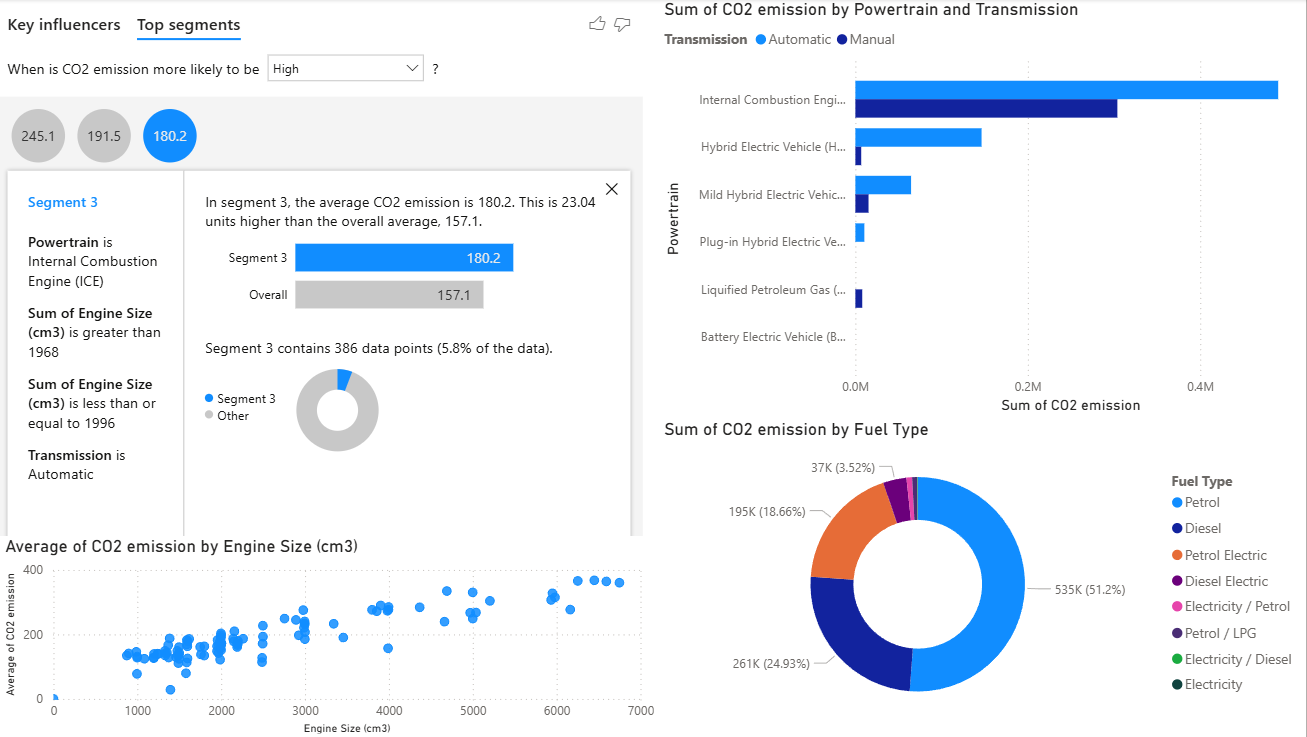

Layout of this report page (visuals, bound fields, positions):
{"tool":"powerbi","page":{"name":"Page 1","canvas":[1280,720],"ordinal":0},"visuals":[{"type":"keyDriversVisual","fields":{"Target":["Vehicles.CO2 emission"],"ExplainBy":["Sum(Vehicles.Engine Size (cm3))","Vehicles.Fuel Type","Vehicles.Powertrain","Vehicles.Transmission"]},"box":[9.7,0,568,467.8],"z":0},{"type":"scatterChart","fields":{"X":["Vehicles.Engine Size (cm3)"],"Y":["Avg(Vehicles.CO2 emission)"]},"box":[9.7,467.8,568,251.9],"z":1000},{"type":"clusteredBarChart","fields":{"Category":["Vehicles.Powertrain"],"Series":["Vehicles.Transmission"],"Y":["Sum(Vehicles.CO2 emission)"]},"box":[577.8,0,702.2,408.5],"z":2000},{"type":"donutChart","fields":{"Category":["Vehicles.Fuel Type"],"Y":["Sum(Vehicles.CO2 emission)"]},"box":[577.8,425,702.2,286],"z":3000}]}

Visuals, with their boxes in screenshot pixels (x1, y1, x2, y2), scaled from the page's 1280x720 canvas onto the 1307x737 screenshot:
keyDriversVisual - Vehicles.CO2 emission x Sum(Vehicles.Engine Size (cm3)): pyautogui.locateOnScreen(10, 0, 590, 479)
scatterChart - Vehicles.Engine Size (cm3) x Avg(Vehicles.CO2 emission): pyautogui.locateOnScreen(10, 479, 590, 736)
clusteredBarChart - Vehicles.Powertrain x Vehicles.Transmission: pyautogui.locateOnScreen(590, 0, 1306, 418)
donutChart - Vehicles.Fuel Type x Sum(Vehicles.CO2 emission): pyautogui.locateOnScreen(590, 435, 1306, 728)
